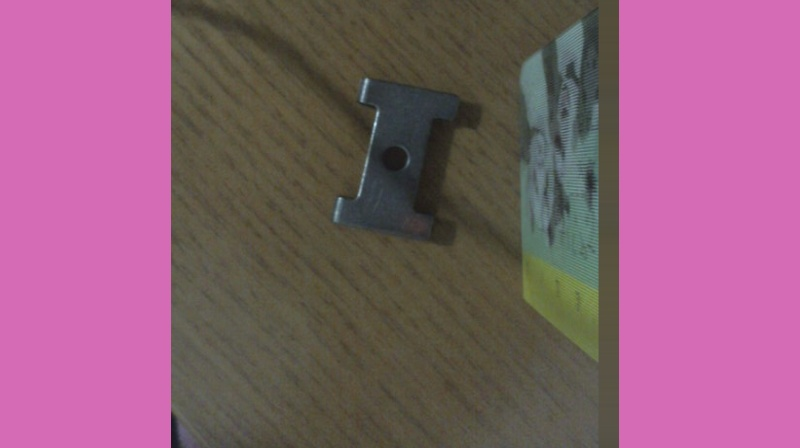O002: (330, 71, 463, 241)
